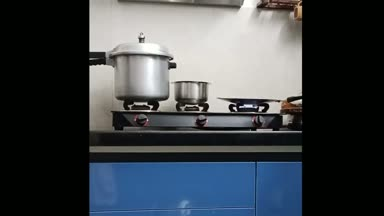flame_gas_off: (123, 99, 159, 128), (177, 102, 211, 126)
flame_gas_on: (233, 103, 272, 130)
